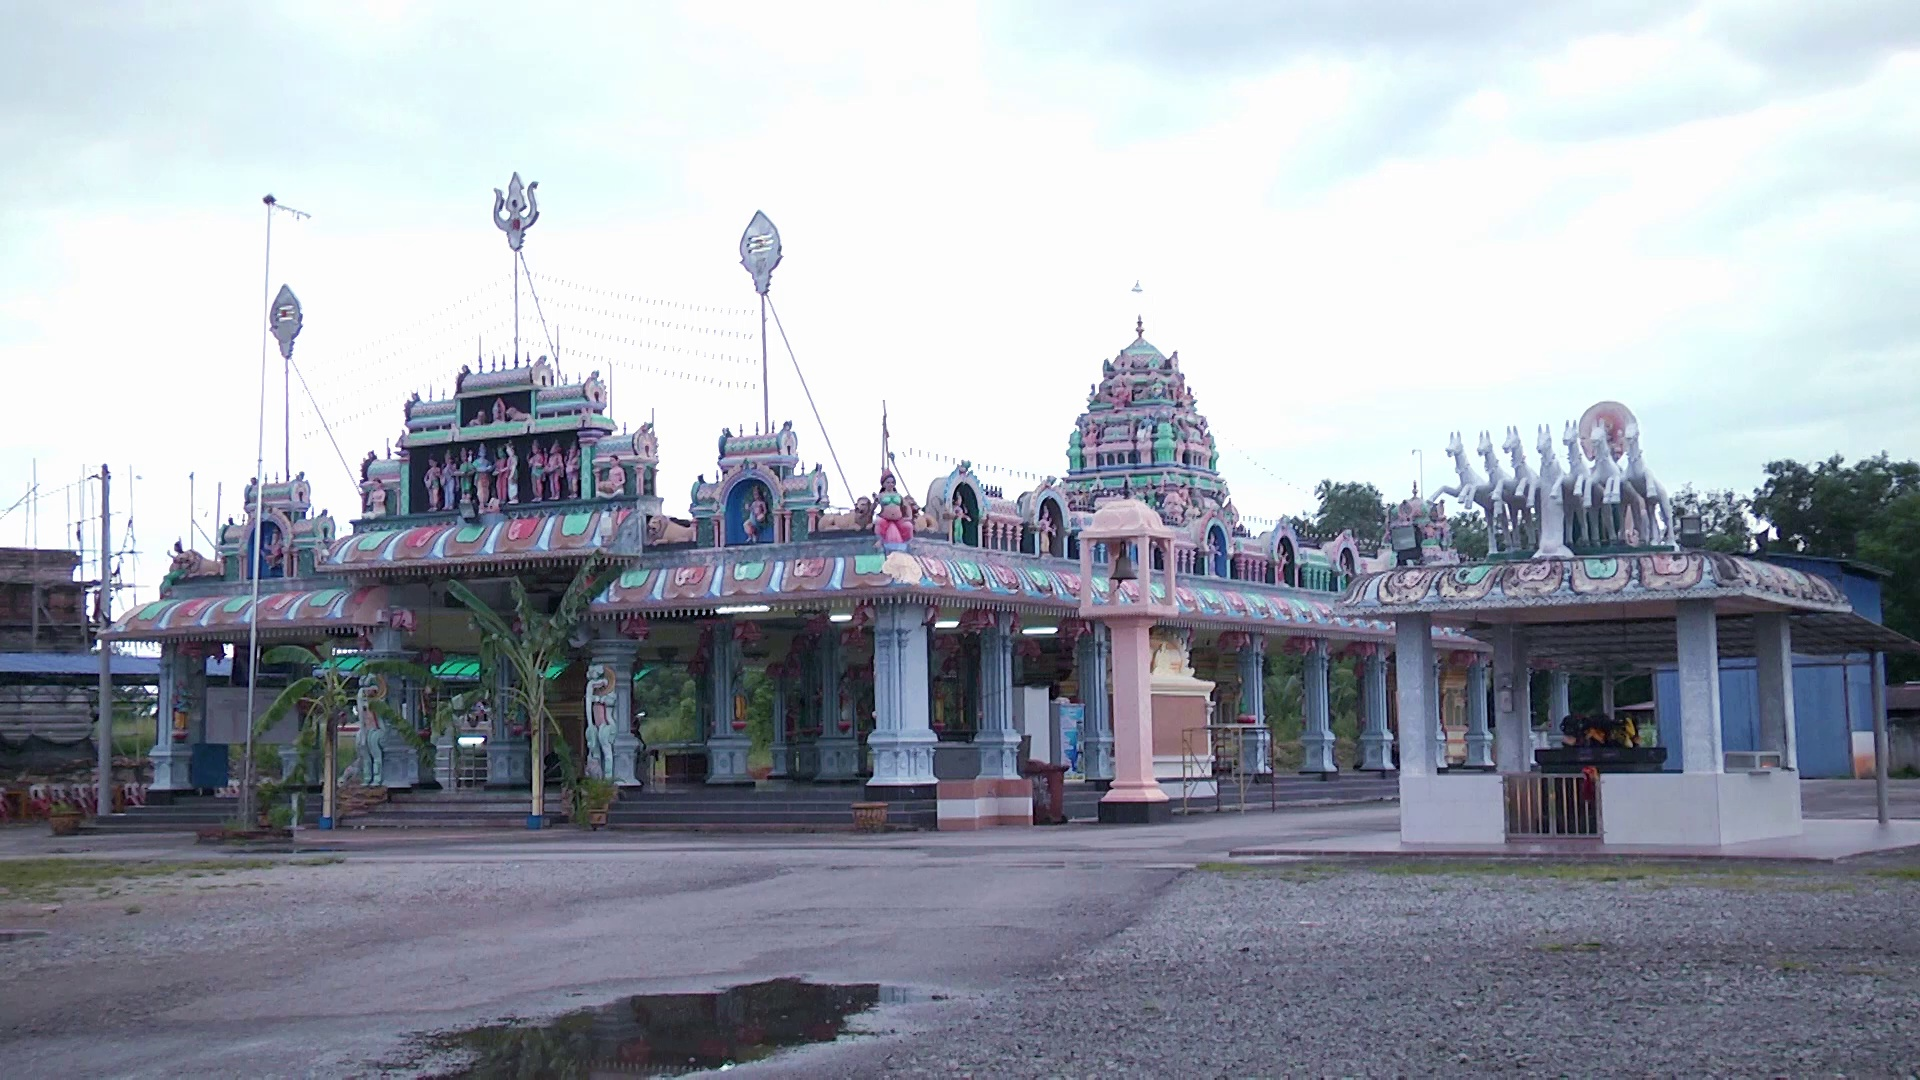Hindu Temple: (138, 307, 1391, 794)
